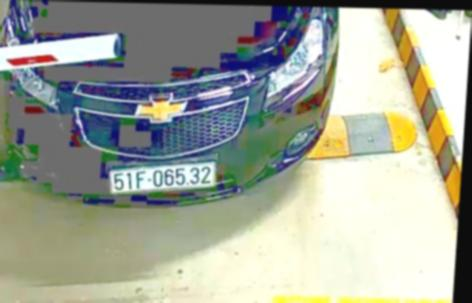License_Plate: (105, 164, 218, 199)
